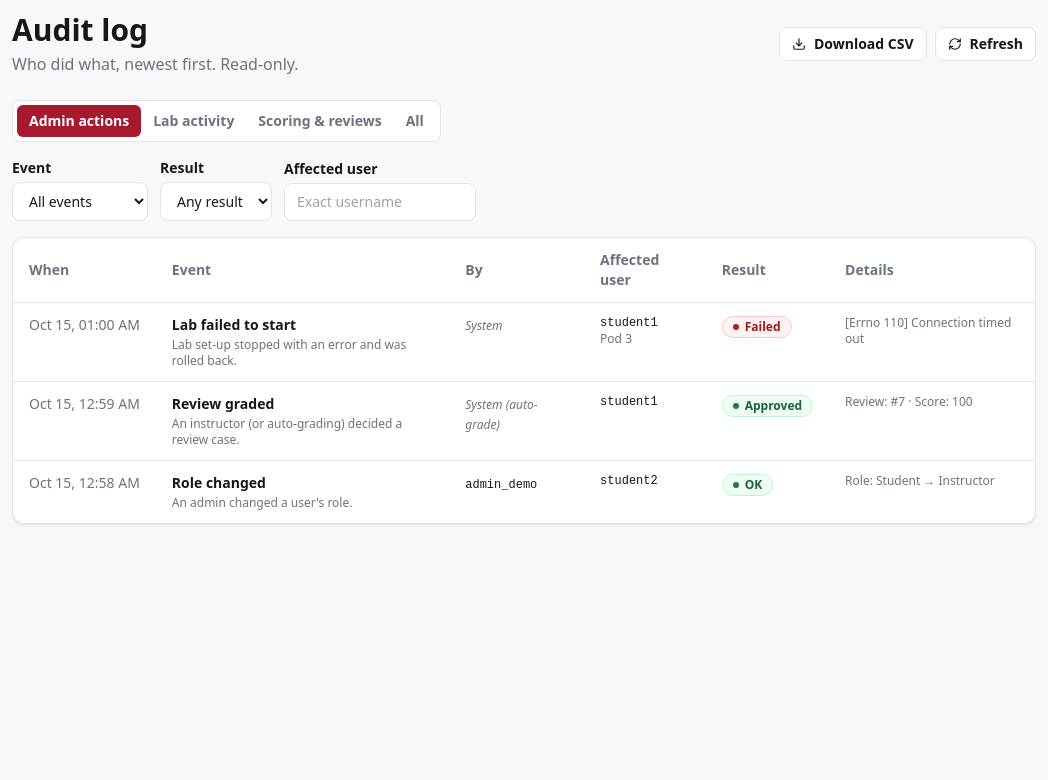
Test: clears the download status when filters change
Expected: the table is shown, x1=13 y1=238 x2=1035 y2=523
Step 1. Click the button "Download CSV" → click(853, 44), box x1=779 y1=27 x2=927 y2=61
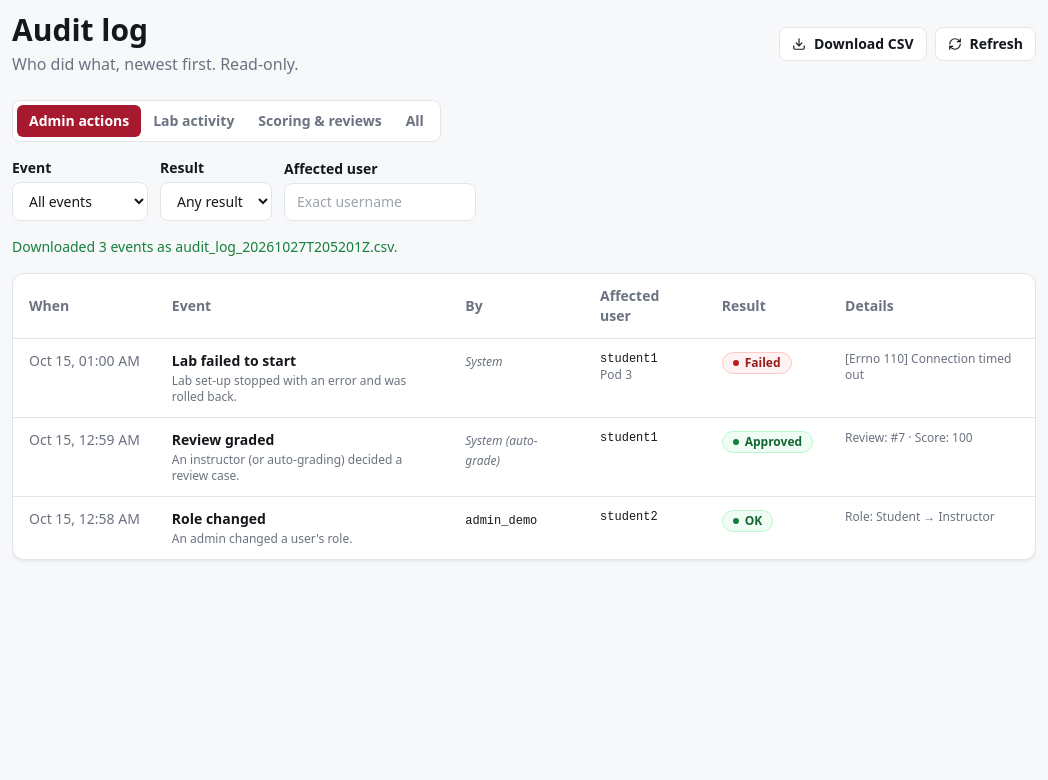
Result: the message "Downloaded 3 events as audit_log_20261027T205201Z.csv." is shown at x1=12 y1=237 x2=398 y2=256
Step 2. Click the button "Lab activity" → click(194, 121), box x1=141 y1=105 x2=246 y2=137
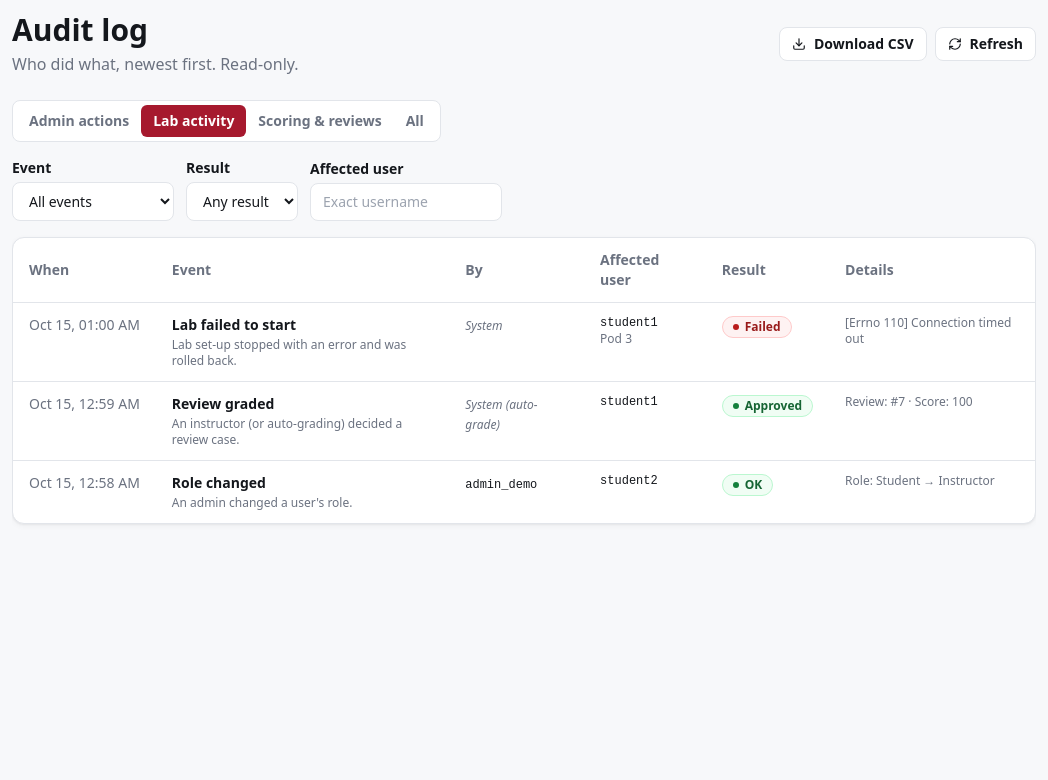
Result: the message "Downloaded 3 events as audit_log_20261027T205201Z.csv." is gone
